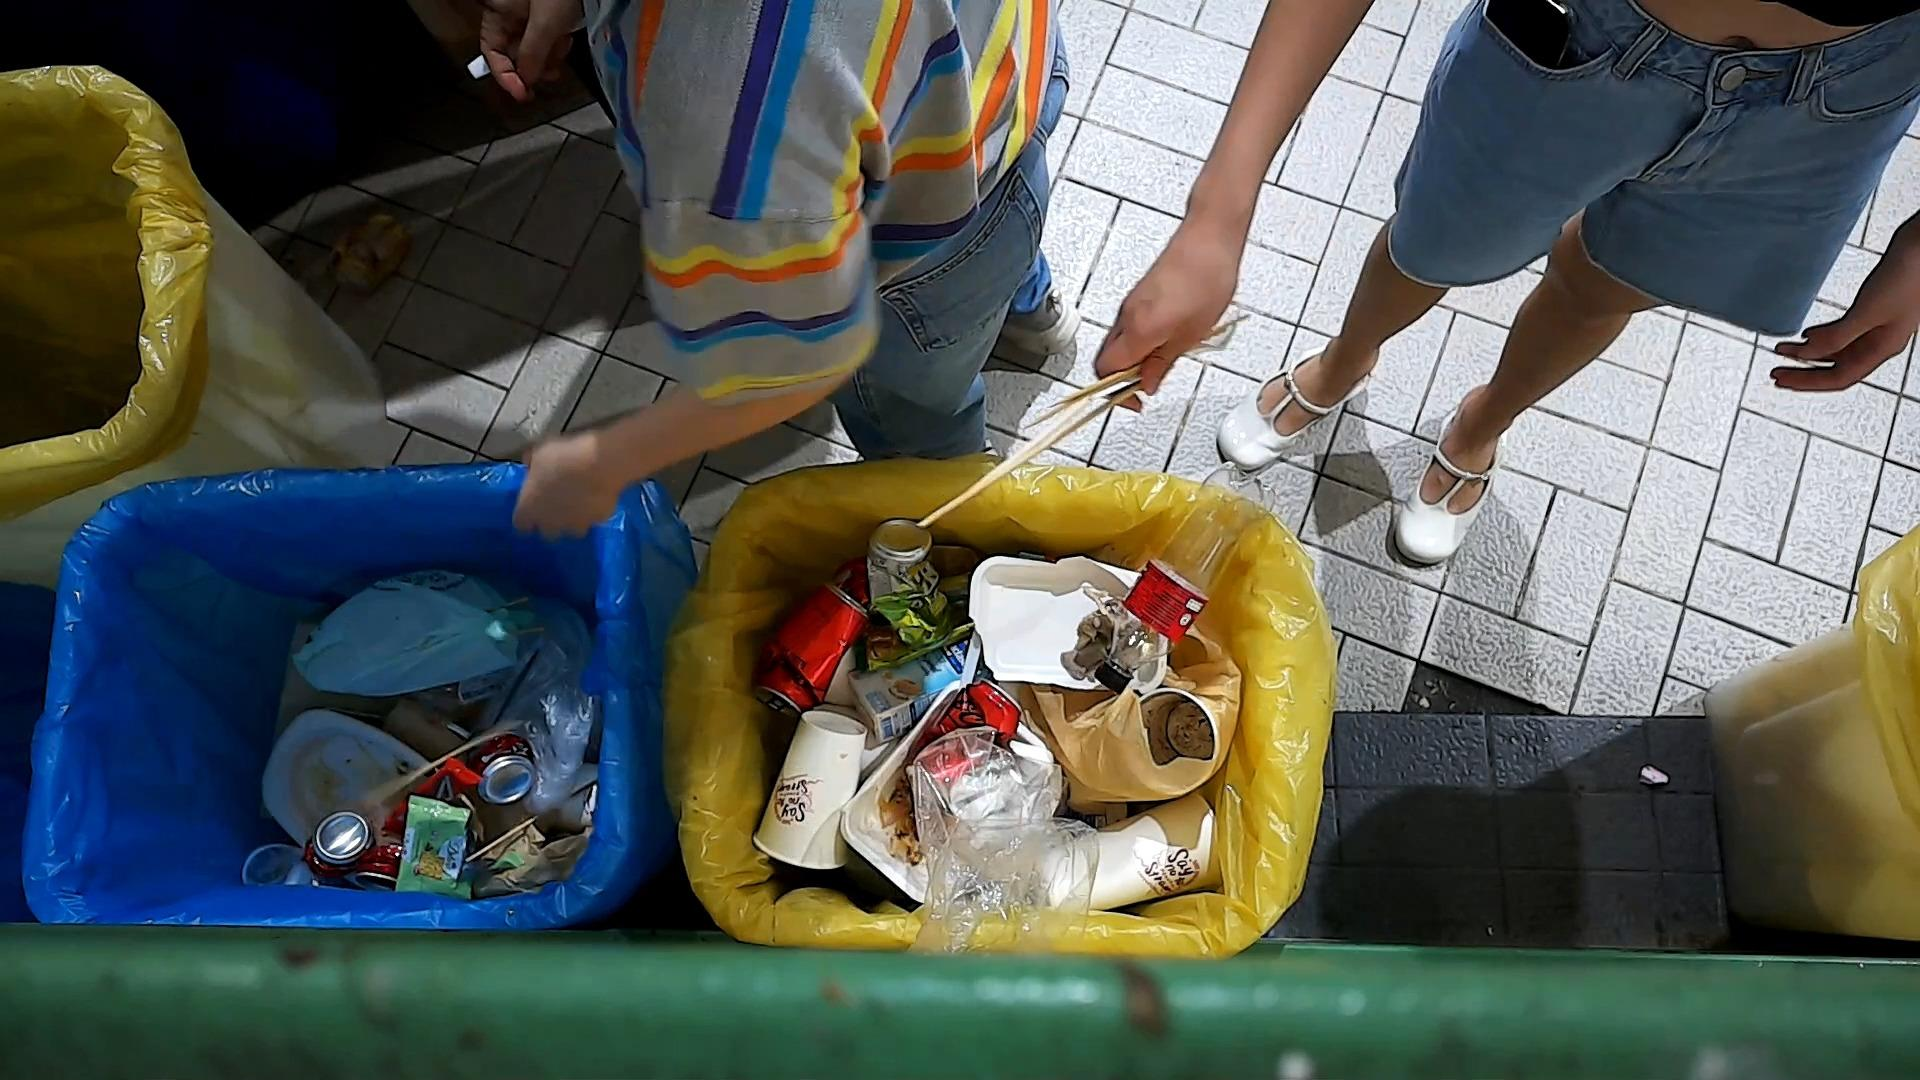can: (749, 575, 874, 721), (901, 675, 1026, 810), (864, 514, 957, 655), (301, 806, 378, 884), (469, 728, 539, 807)
dirty food container: (965, 549, 1174, 695)
filled plastic bag: (1033, 595, 1250, 812), (285, 562, 545, 702)
food container: (258, 704, 436, 852), (235, 840, 307, 890)
milk carton: (841, 632, 994, 745)
paper bag: (479, 803, 595, 902)
plastic bag: (905, 721, 1105, 955), (472, 576, 601, 820)
plastic bottle: (1091, 456, 1283, 700)
snack packaging: (392, 791, 525, 903), (378, 752, 492, 839)
sticks: (913, 388, 1149, 534), (1019, 309, 1255, 450), (356, 715, 529, 816), (463, 778, 599, 865)
zero waste cup: (1034, 787, 1224, 913), (749, 708, 868, 873)
